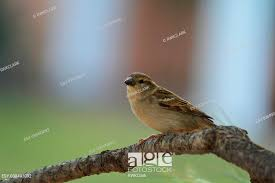hsparrow: (121, 69, 225, 141)
